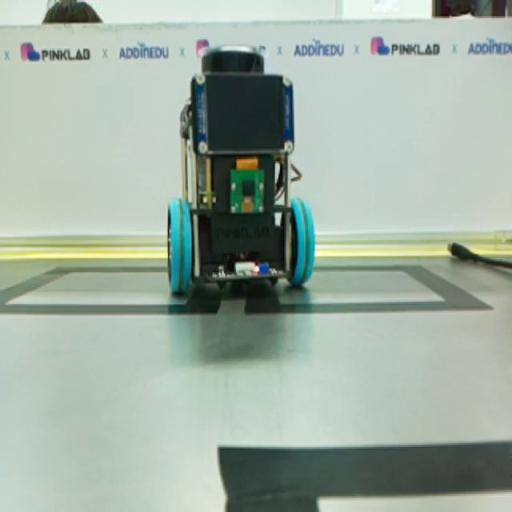pinky_63: (166, 45, 315, 294)
